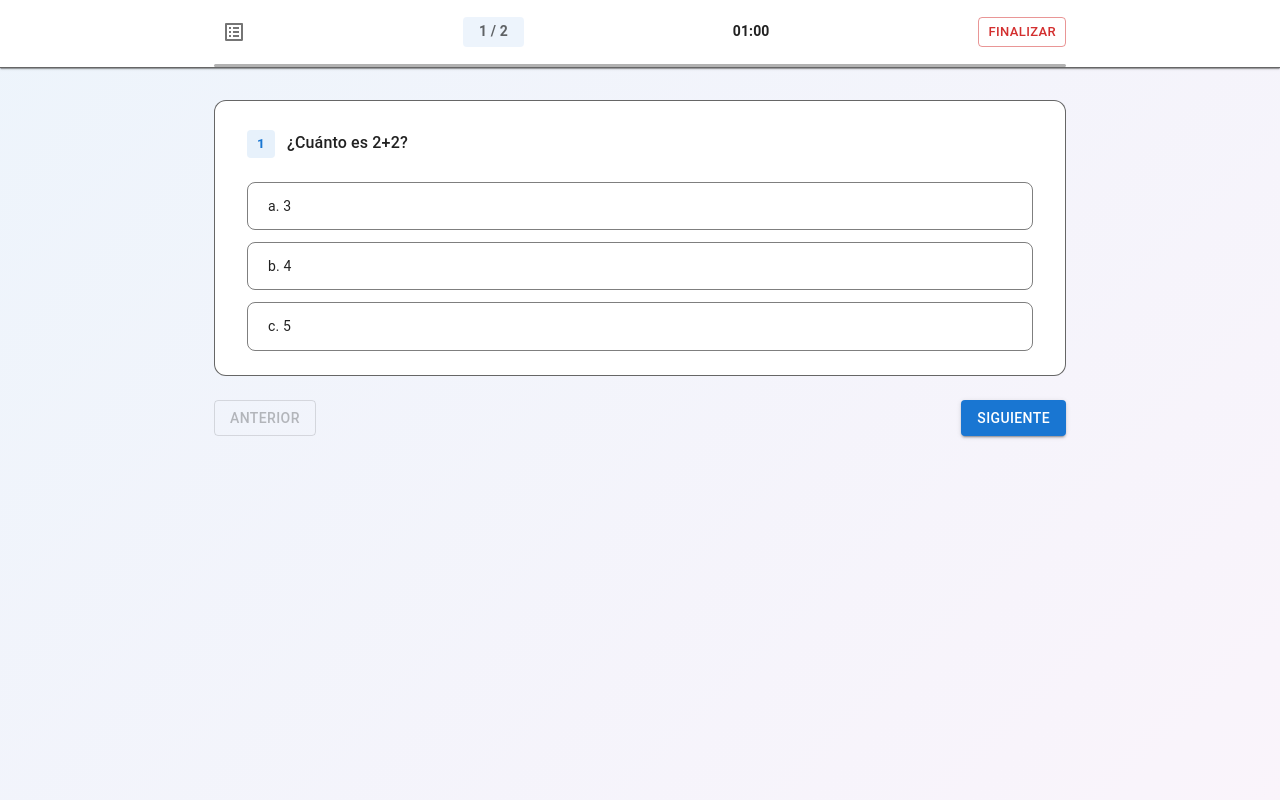
Test: QuestionaryView › should finish quiz and show results
Click the text "b. 4".
click(280, 266)  # box [268,258,292,274]
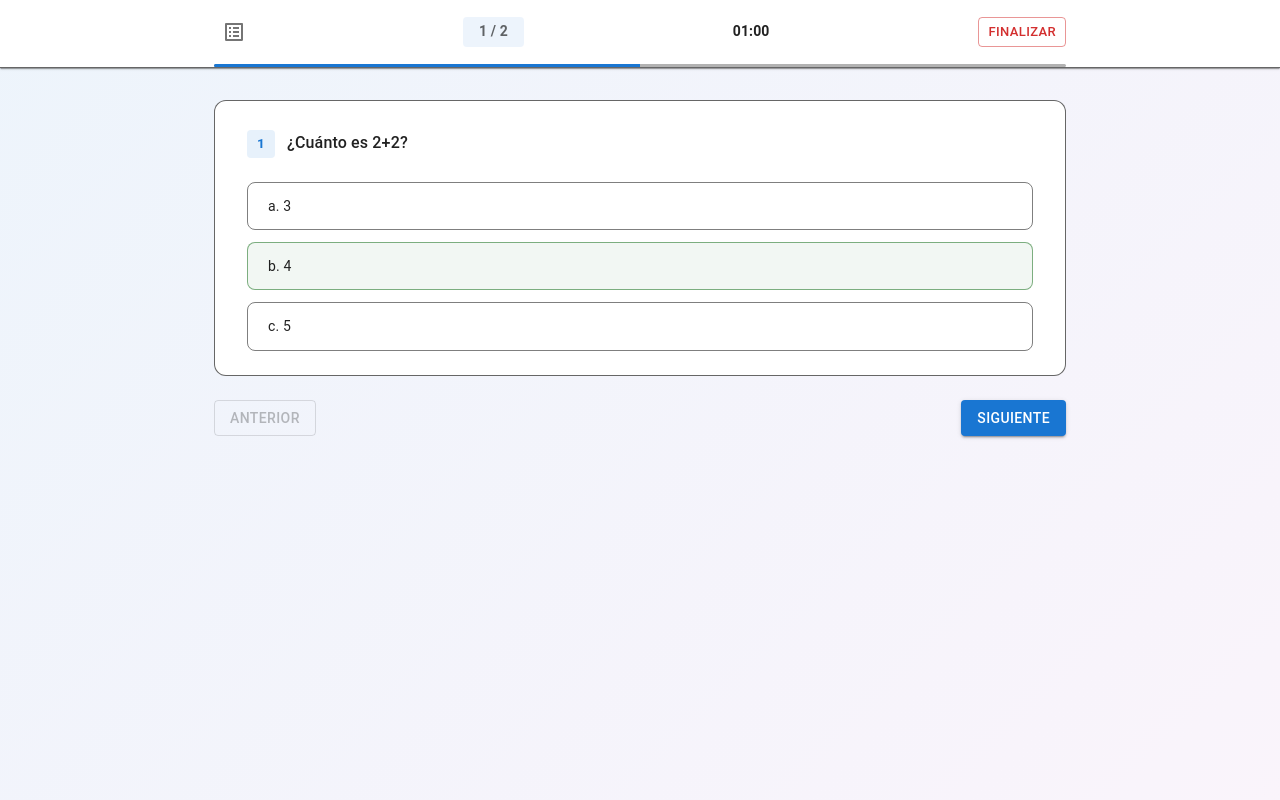
Click the button "Siguiente".
click(1014, 418)  # box [961,400,1066,436]
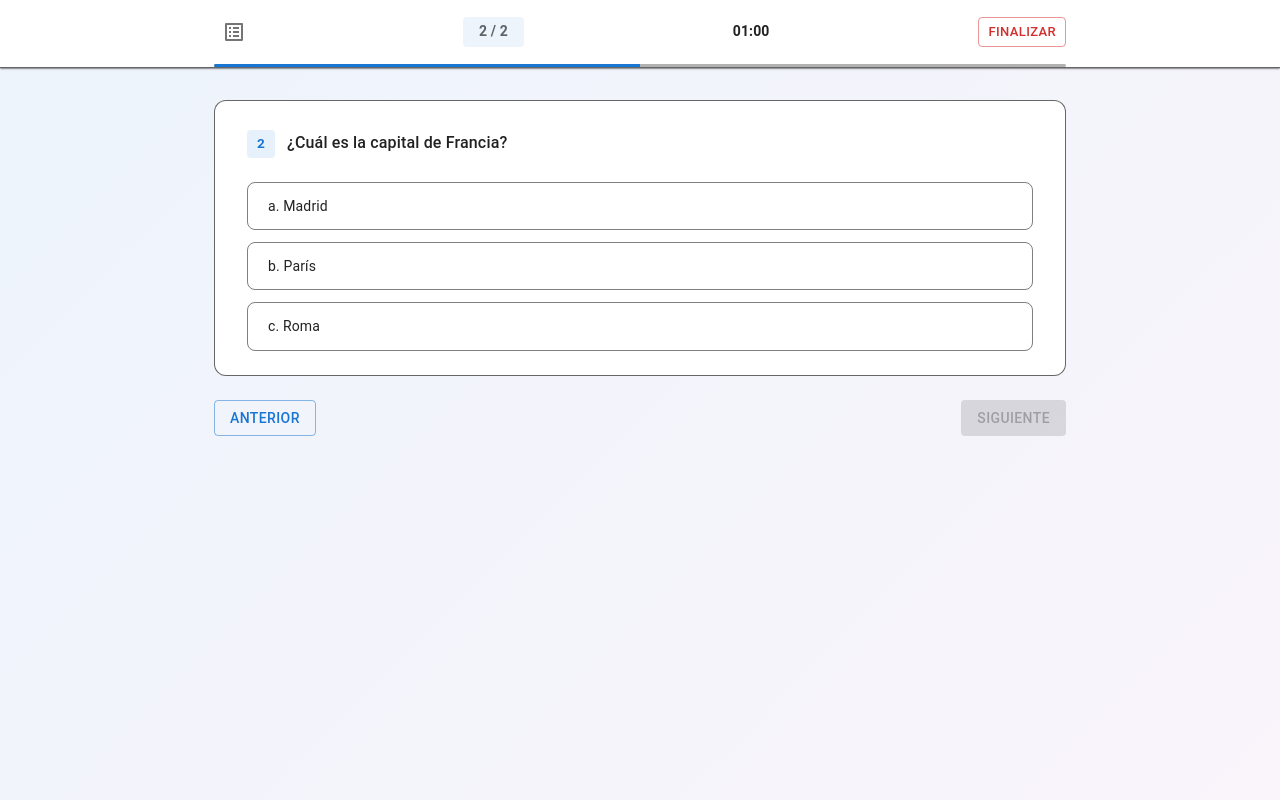
Click the text "b. París".
click(292, 266)  # box [268,258,316,274]
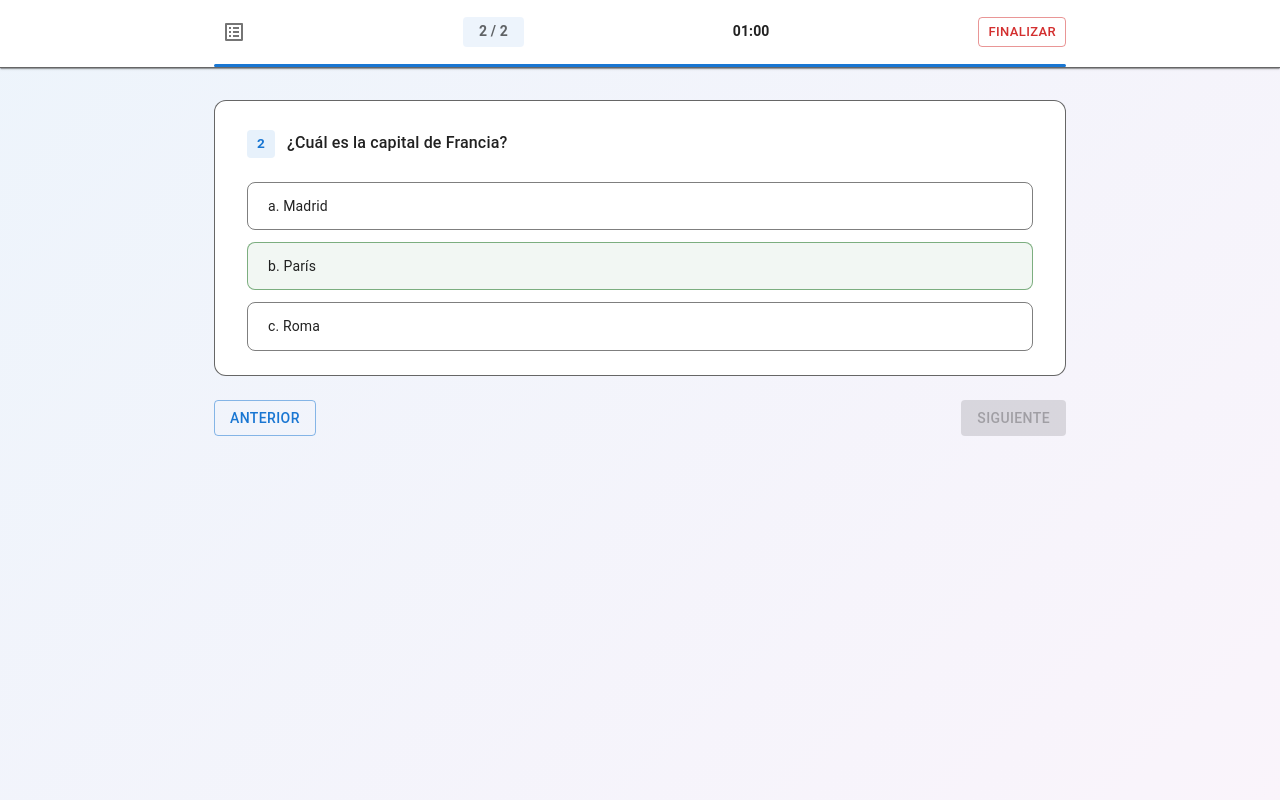
Click the button "Finalizar".
click(1022, 32)  # box [978,17,1066,47]
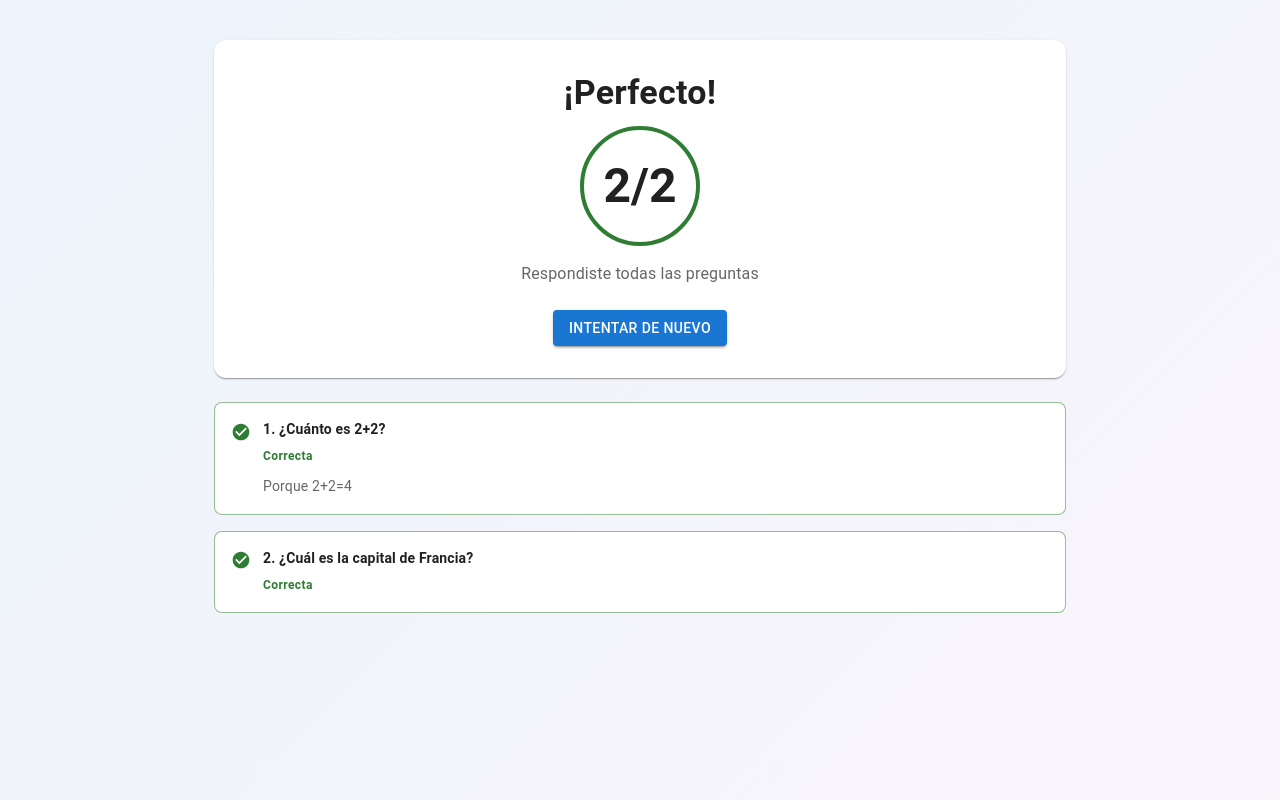
Result: the heading "2/2" is shown at [604,158,676,214]
Result: the heading "¡Perfecto!" is shown at [564,72,716,112]
